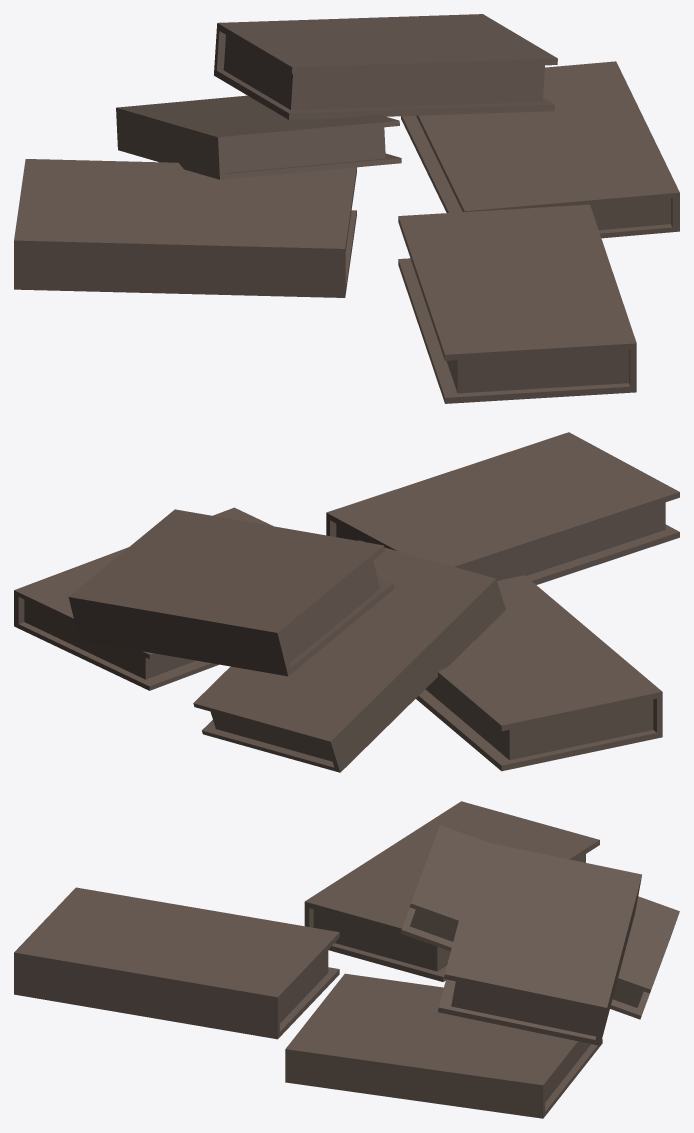
The model's file is FallenBooks1.fbx.glb.
The picture shows the model from 3 angles, top to bottom: view 1: azimuth 30°, elevation 25°; view 2: azimuth 150°, elevation 25°; view 3: azimuth 270°, elevation 25°; orthographic projection. The views are drawn at different scales.
Visible parts, largest first — view 1: FallenBooks1.1; view 2: FallenBooks1.1; view 3: FallenBooks1.1.
Part boxes in pixels (x1,y1,x2,y2): FallenBooks1.1: (14, 14, 679, 403); FallenBooks1.1: (14, 432, 679, 772); FallenBooks1.1: (14, 801, 679, 1118).
Bounding box in the file's own units: 53.92 × 12.64 × 55.83.
